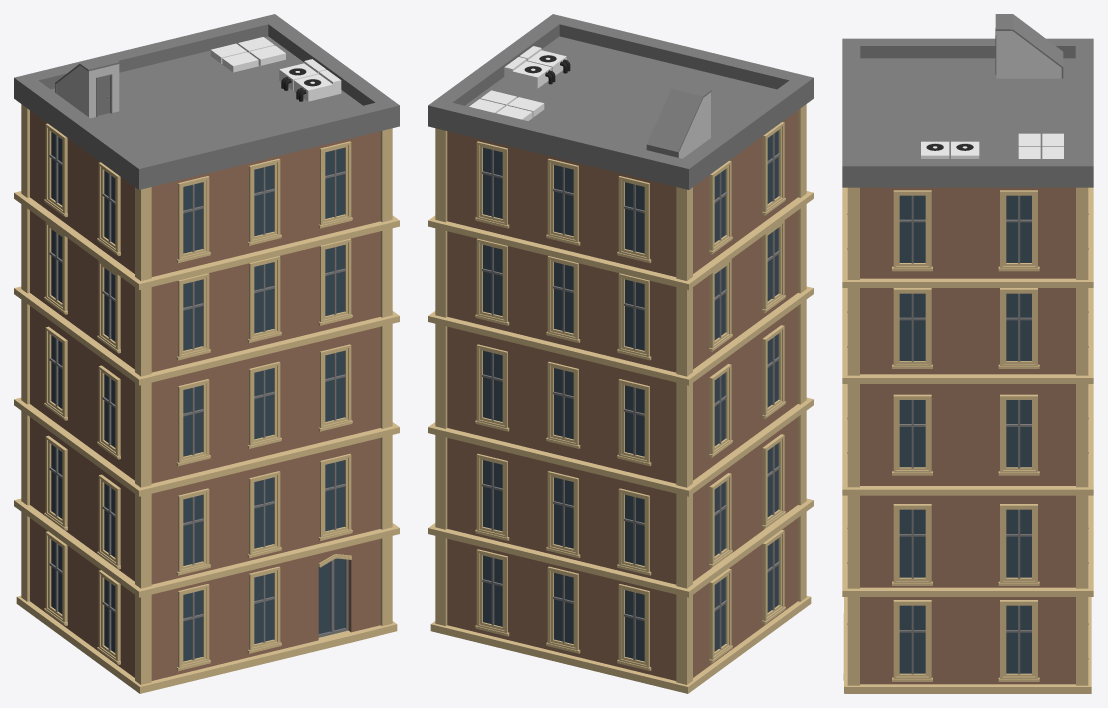
Rendered from apartment.glb.
3 renders of one model, left to right at view 1: azimuth 30°, elevation 25°; view 2: azimuth 150°, elevation 25°; view 3: azimuth 270°, elevation 25°, orthographic.
Visible parts, largest first — view 1: Building 1; view 2: Building 1; view 3: Building 1.
Part boxes in pixels (bbox=[...]): Building 1: bbox=[14, 14, 399, 693]; Building 1: bbox=[428, 14, 813, 693]; Building 1: bbox=[842, 14, 1093, 693].
Bounding box in the file's own units: 9.86 × 20.32 × 8.18.
